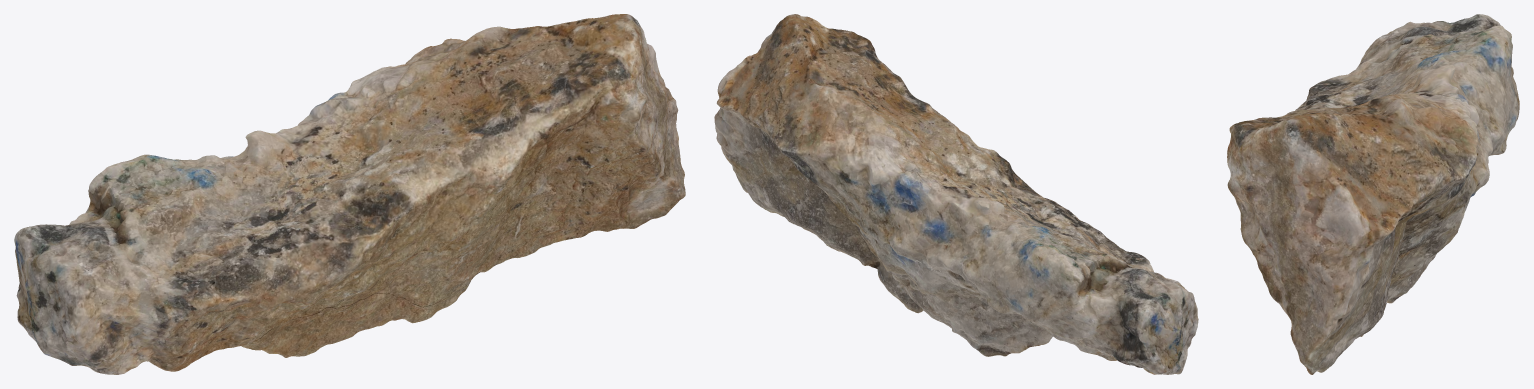
Rendered from azurita.glb.
3 renders of one model, left to right at view 1: azimuth 30°, elevation 25°; view 2: azimuth 150°, elevation 25°; view 3: azimuth 270°, elevation 25°, orthographic. The views are drawn at different scales.
Visible parts, largest first — view 1: Model; view 2: Model; view 3: Model.
Part boxes in pixels (left/top/right/bottom): Model: left=14, top=14, right=685, bottom=374; Model: left=714, top=14, right=1198, bottom=374; Model: left=1227, top=14, right=1519, bottom=374.
Size of the model in its own units: 1 by 0.486 by 0.3944.
4 materials, 4 textured.
